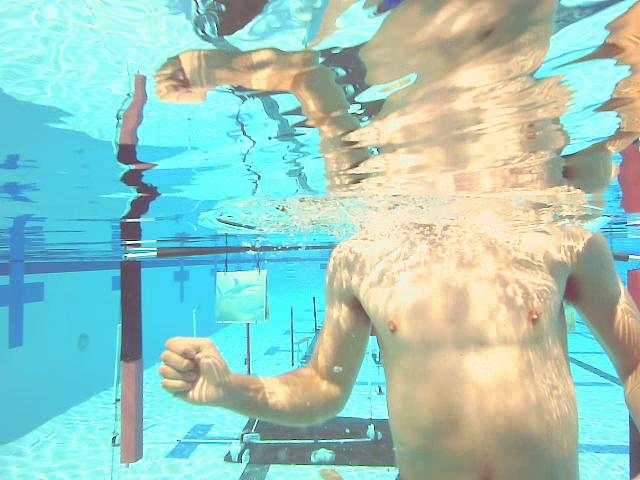black_poster: (290, 306, 296, 369), (310, 297, 318, 343)
left_gate_poster: (121, 263, 144, 464)
shark: (215, 271, 268, 323)
white_poster: (112, 324, 121, 406), (245, 323, 252, 387), (191, 310, 198, 373)
